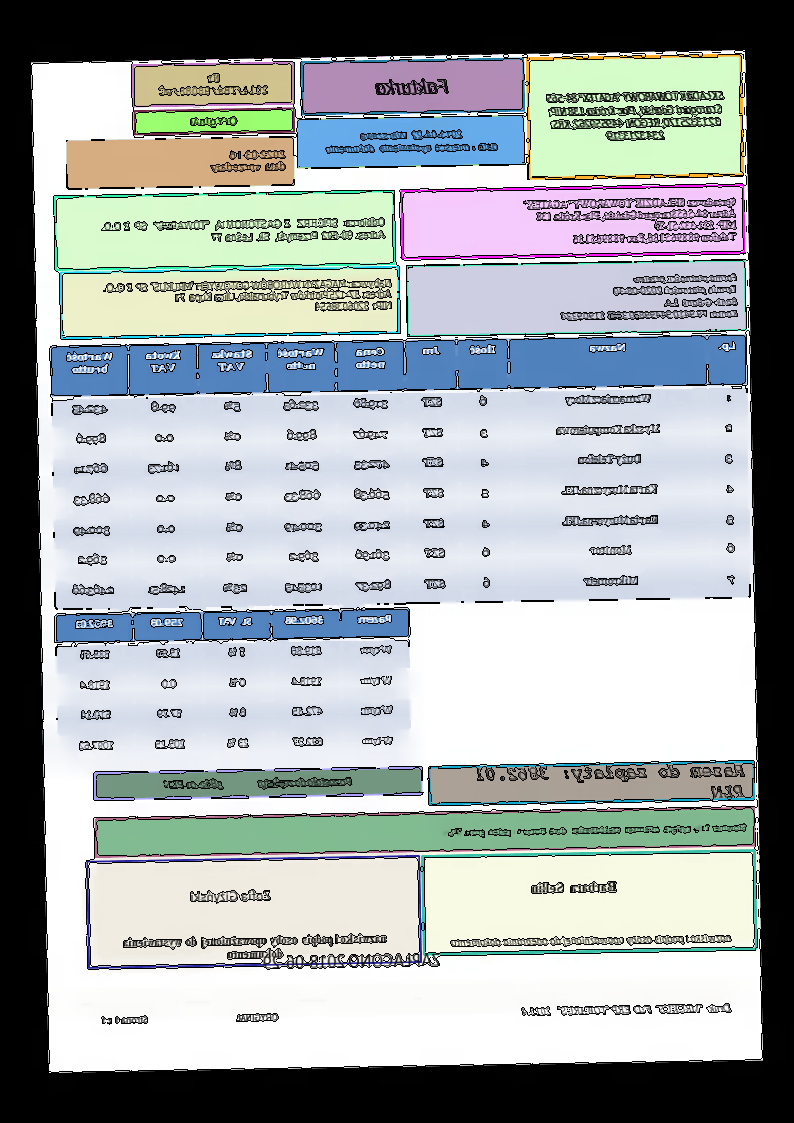Table: (50, 333, 752, 610), (55, 607, 413, 765)
TextBox: (104, 276, 394, 317), (523, 194, 740, 247), (475, 763, 747, 804), (545, 87, 728, 145), (558, 270, 740, 324), (98, 215, 387, 247), (121, 932, 390, 962), (450, 931, 734, 951), (439, 821, 748, 839), (323, 126, 501, 156), (519, 1001, 733, 1018), (262, 952, 443, 972), (160, 774, 356, 792), (156, 70, 271, 98), (100, 1010, 280, 1026), (208, 147, 289, 175), (374, 77, 452, 97), (188, 888, 273, 905), (531, 879, 619, 895), (187, 114, 240, 129)
